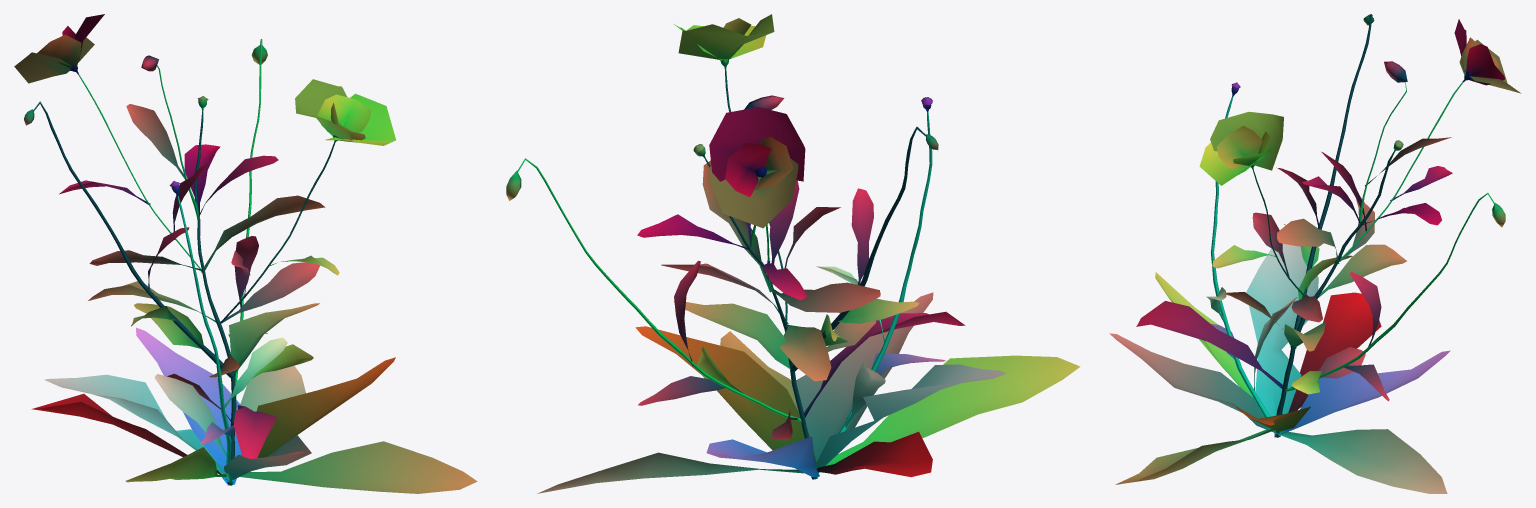
The model's file is Field_Poppy_vmcobd0ja_Mid_vmcobd0ja_VarB_LOD0.fbx.
The picture shows the model from 3 angles, left to right: view 1: azimuth 30°, elevation 25°; view 2: azimuth 150°, elevation 25°; view 3: azimuth 270°, elevation 25°; orthographic projection. The views are drawn at different scales.
Parts seen in each view (by area): view 1: _cacj_VarB_LOD1; view 2: _cacj_VarB_LOD1; view 3: _cacj_VarB_LOD1.
Part boxes in pixels (left/top/right/bottom): _cacj_VarB_LOD1: left=14, top=14, right=477, bottom=493; _cacj_VarB_LOD1: left=506, top=14, right=1080, bottom=493; _cacj_VarB_LOD1: left=1109, top=14, right=1521, bottom=493.
Bounding box in the file's own units: 41.04 × 47.34 × 45.91.
